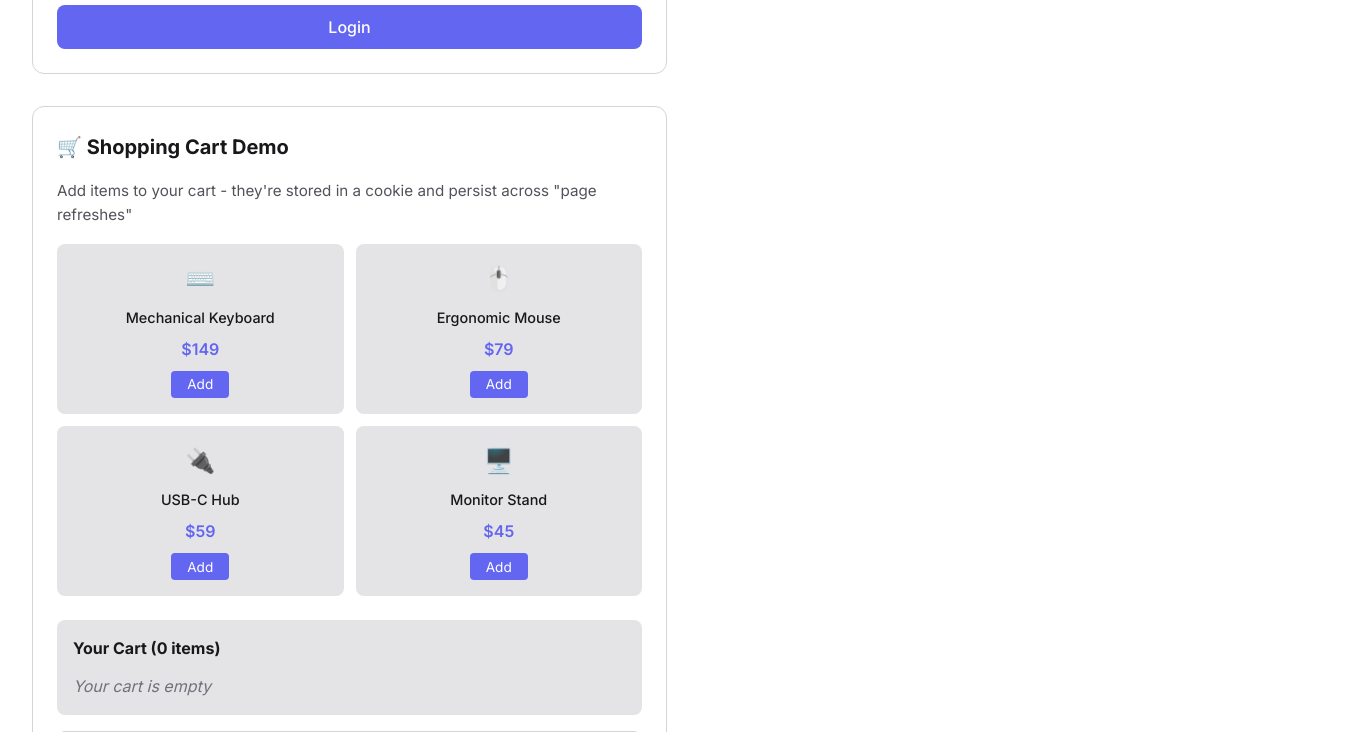
SessionDemo › adds items to cart using cookies
(page scrolled)
Click the button with test id "add-item-button" below "149": click(200, 384) [171, 371, 229, 398]
(page scrolled)
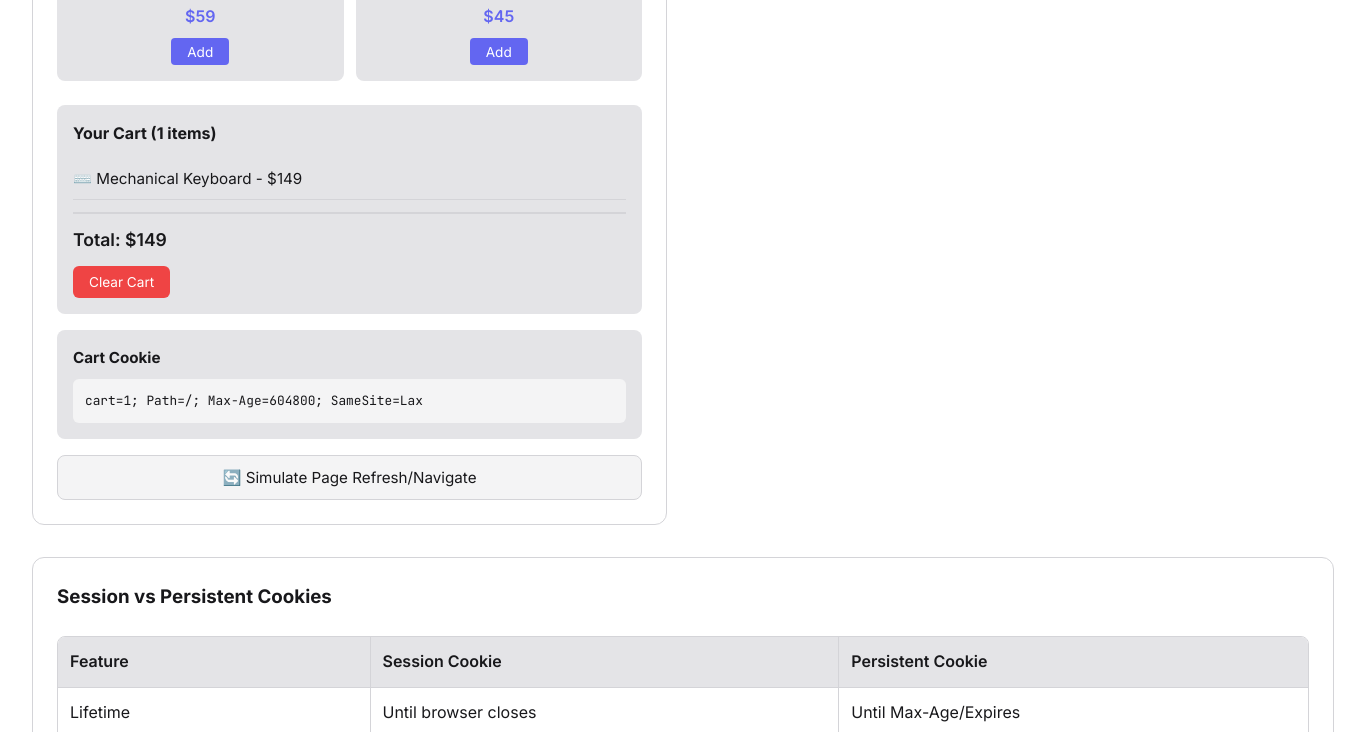
Expected: the element with test id "cart-cookie" is shown, [57, 330, 642, 439]
Expected: the element with test id "cart-cookie" shows "Cart", [73, 348, 160, 367]
